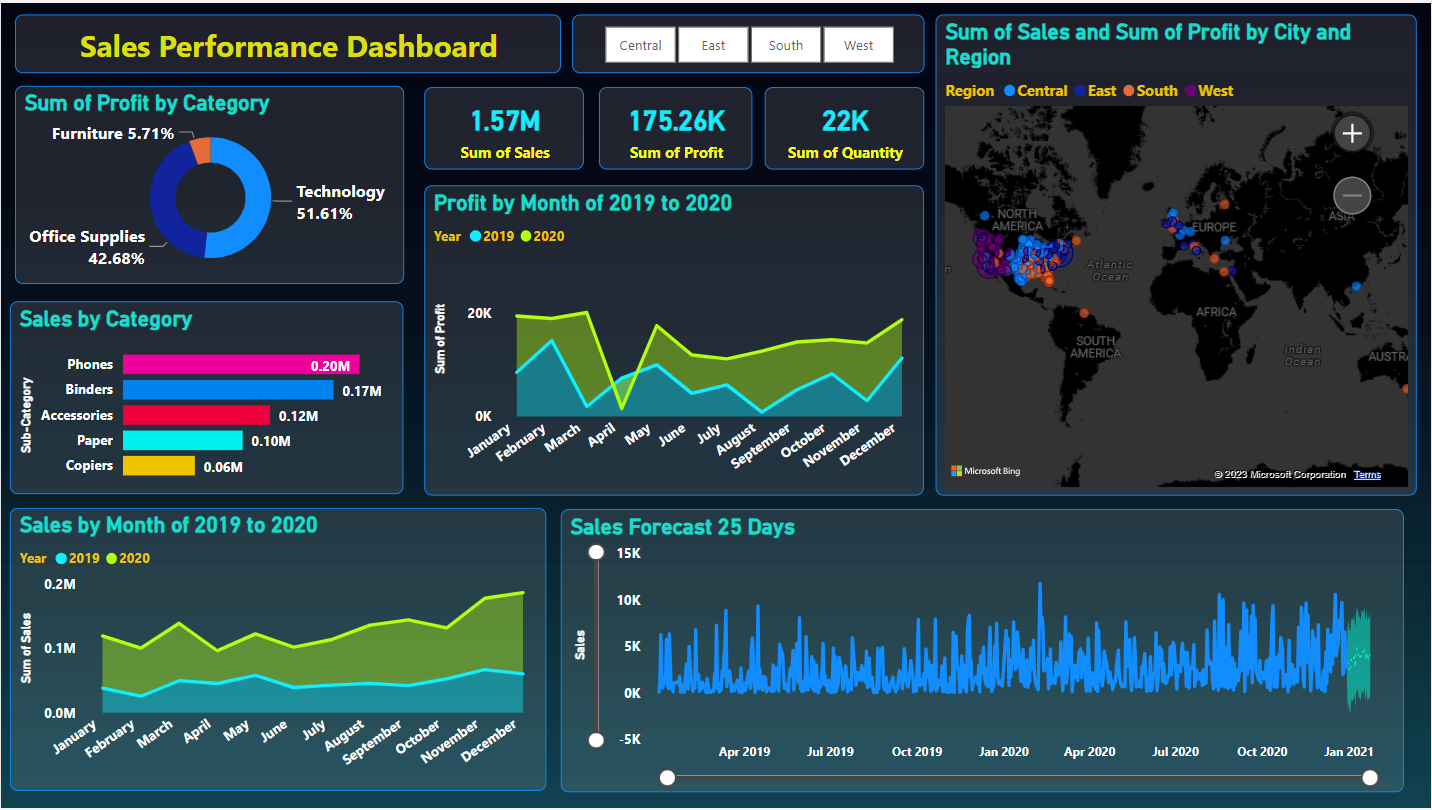

This screenshot's page, from the dashboard's own definition file:
{"tool":"powerbi","page":{"name":"Page 1","canvas":[1280,720],"ordinal":0},"visuals":[{"type":"clusteredBarChart","title":"Sales by Category","fields":{"Category":["SuperStore_Sales_Dataset.Sub-Category"],"Y":["Sum(SuperStore_Sales_Dataset.Sales)"]},"box":[8.5,267.5,352.4,172.7],"z":0},{"type":"stackedAreaChart","title":"Profit by Month of 2019 to 2020","fields":{"Category":["SuperStore_Sales_Dataset.Order Date.Variation.Date Hierarchy.Month","SuperStore_Sales_Dataset.Order Date.Variation.Date Hierarchy.Day"],"Series":["SuperStore_Sales_Dataset.Order Date.Variation.Date Hierarchy.Year"],"Y":["Sum(SuperStore_Sales_Dataset.Profit)"]},"box":[379.3,162.8,447.3,277.4],"z":1000},{"type":"stackedAreaChart","title":"Sales by Month of 2019 to 2020","fields":{"Category":["SuperStore_Sales_Dataset.Order Date.Variation.Date Hierarchy.Month","SuperStore_Sales_Dataset.Order Date.Variation.Date Hierarchy.Day"],"Series":["SuperStore_Sales_Dataset.Order Date.Variation.Date Hierarchy.Year"],"Y":["Sum(SuperStore_Sales_Dataset.Sales)"]},"box":[8.5,451.5,479.8,253.4],"z":2000},{"type":"map","fields":{"Category":["SuperStore_Sales_Dataset.City"],"Size":["Sum(SuperStore_Sales_Dataset.Sales)"],"Series":["SuperStore_Sales_Dataset.Region"]},"box":[836.5,9.9,430.3,430.3],"z":3000},{"type":"donutChart","fields":{"Y":["Sum(SuperStore_Sales_Dataset.Profit)"],"Category":["SuperStore_Sales_Dataset.Category"]},"box":[12.7,73.6,348.2,176.9],"z":4000},{"type":"textbox","box":[12.7,9.9,488.3,52.4],"z":5000},{"type":"slicer","fields":{"Values":["SuperStore_Sales_Dataset.Region"]},"box":[511,9.9,315.6,52.4],"z":6000},{"type":"card","fields":{"Values":["Sum(SuperStore_Sales_Dataset.Sales)"]},"box":[379.3,75,143,73.6],"z":7000},{"type":"card","fields":{"Values":["Sum(SuperStore_Sales_Dataset.Profit)"]},"box":[535,75,137.3,73.6],"z":8000},{"type":"card","fields":{"Values":["Sum(SuperStore_Sales_Dataset.Quantity)"]},"box":[683.7,75,143,73.6],"z":9000},{"type":"lineChart","title":"Sales Forecast 25 Days","fields":{"Category":["SuperStore_Sales_Dataset.Order Date"],"Y":["Sum(SuperStore_Sales_Dataset.Sales)"]},"box":[500.9,451.8,765.6,253.3],"z":10000}]}

Visuals, with their boxes in screenshot pixels (x1, y1, x2, y2), scaled from the page's 1280x720 canvas onto the 1432x810 screenshot:
"Sales by Category" clusteredBarChart: l=10, t=301, r=404, b=495
"Profit by Month of 2019 to 2020" stackedAreaChart: l=424, t=183, r=925, b=495
"Sales by Month of 2019 to 2020" stackedAreaChart: l=10, t=508, r=546, b=793
map - SuperStore_Sales_Dataset.City x Sum(SuperStore_Sales_Dataset.Sales): l=936, t=11, r=1417, b=495
donutChart - Sum(SuperStore_Sales_Dataset.Profit) x SuperStore_Sales_Dataset.Category: l=14, t=83, r=404, b=282
textbox: l=14, t=11, r=560, b=70
slicer - SuperStore_Sales_Dataset.Region: l=572, t=11, r=925, b=70
card - Sum(SuperStore_Sales_Dataset.Sales): l=424, t=84, r=584, b=167
card - Sum(SuperStore_Sales_Dataset.Profit): l=599, t=84, r=752, b=167
card - Sum(SuperStore_Sales_Dataset.Quantity): l=765, t=84, r=925, b=167
"Sales Forecast 25 Days" lineChart: l=560, t=508, r=1417, b=793
